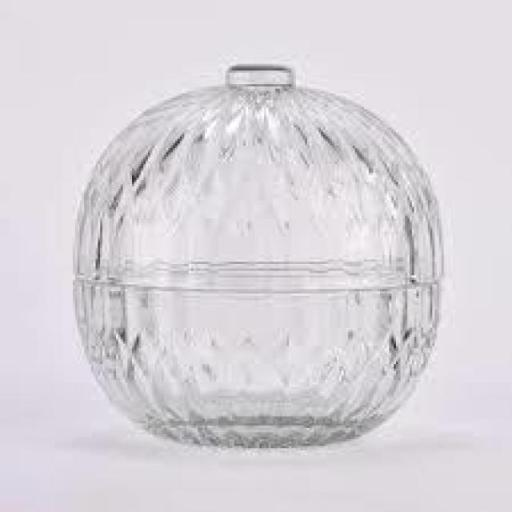glass: (63, 43, 465, 465)
